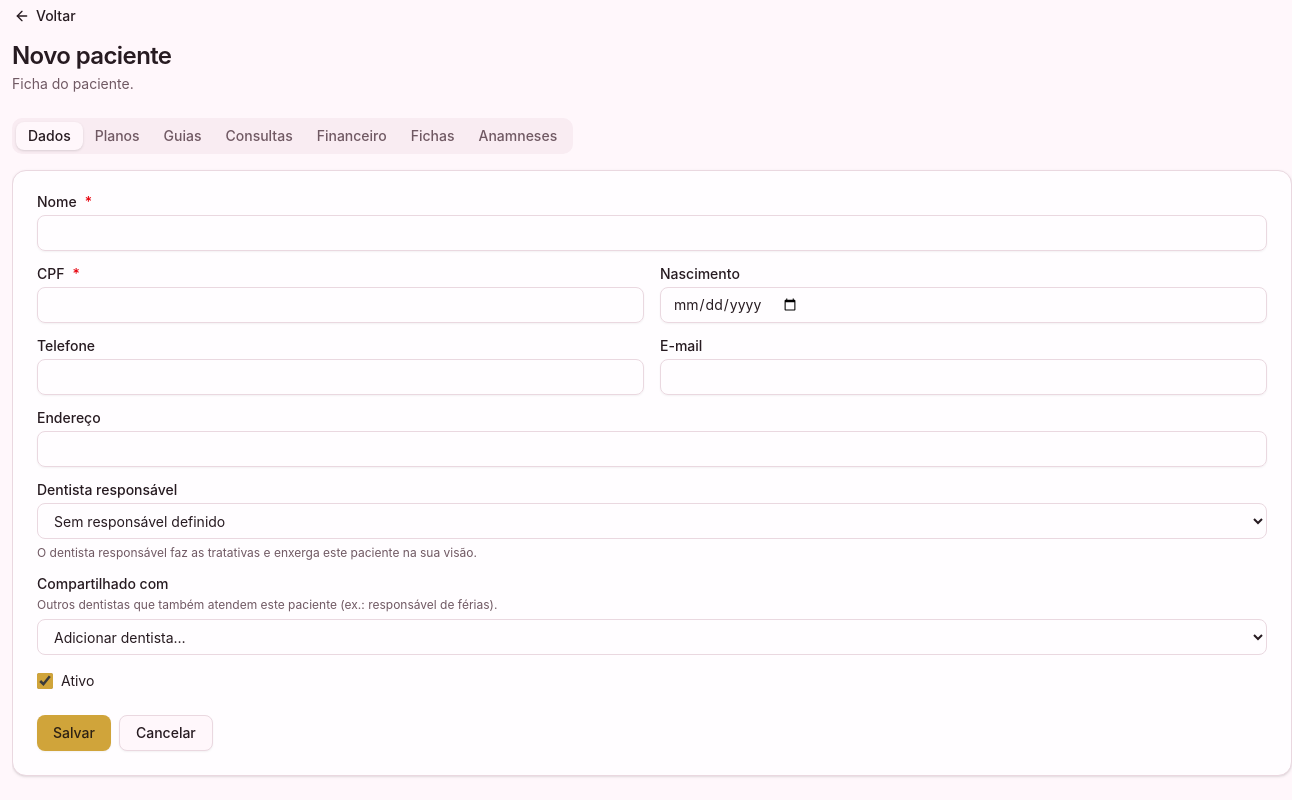
Test case: PacienteDetalhePage › modo criação: abas de relações pedem para salvar primeiro
Click the tab "Planos" at point(117, 136), box x1=83 y1=122 x2=152 y2=150
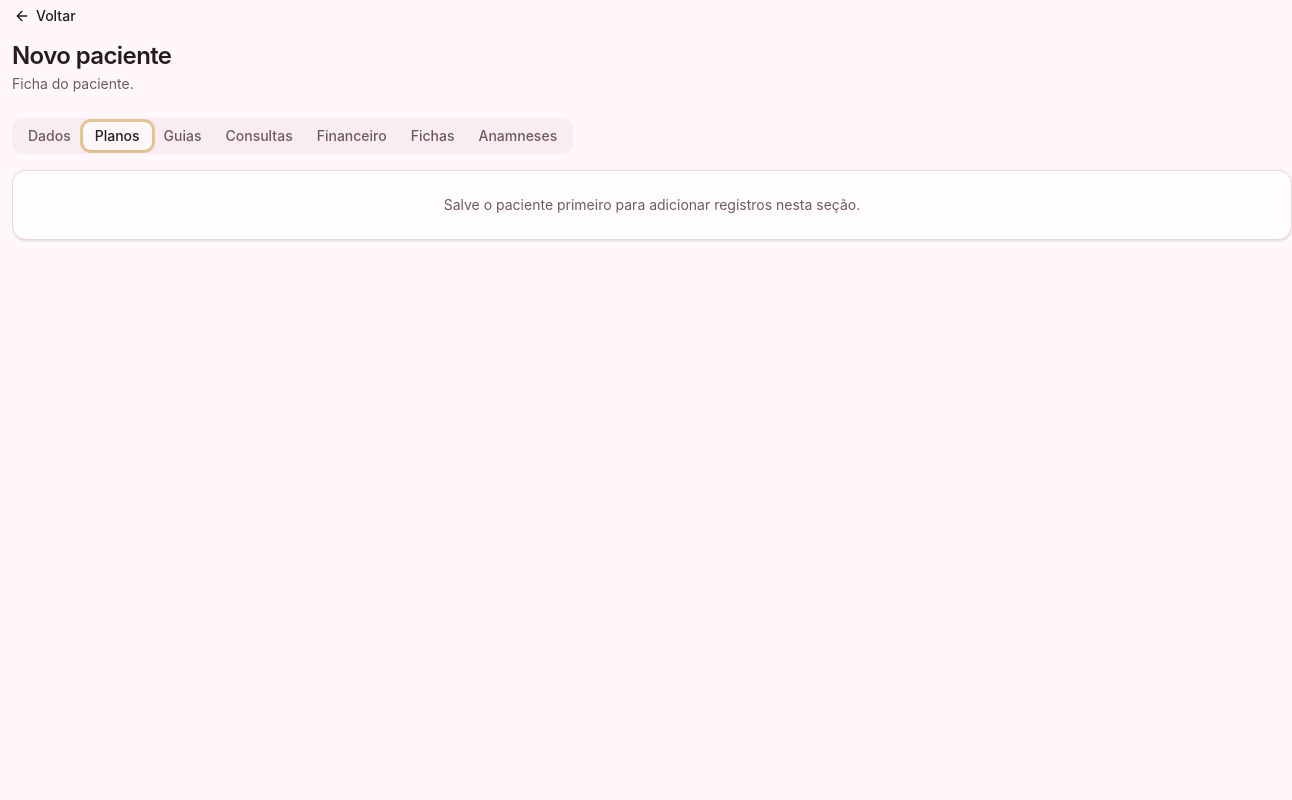
Result: the text "Salve o paciente primeiro" is shown at x1=444 y1=196 x2=860 y2=213
